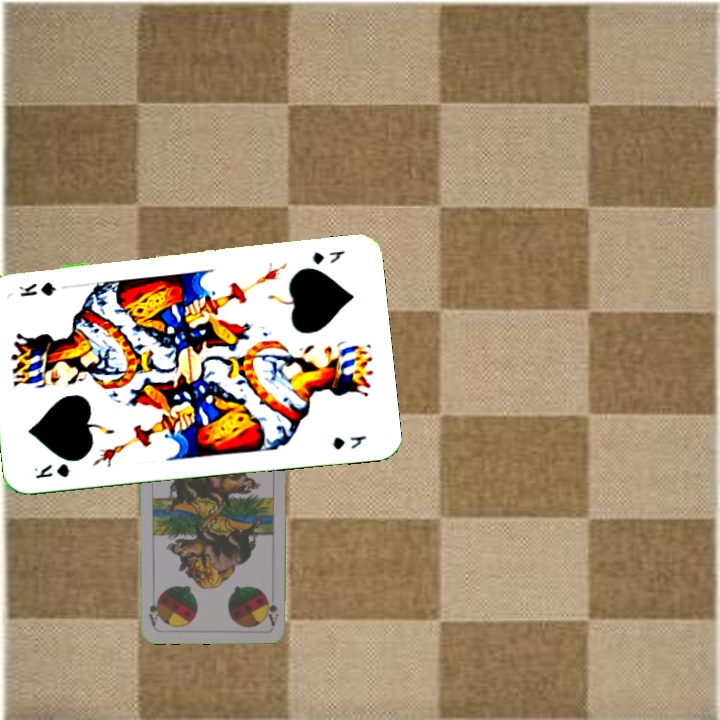GK: (30, 459, 72, 481), (308, 246, 348, 267)
SA: (263, 592, 281, 627)
